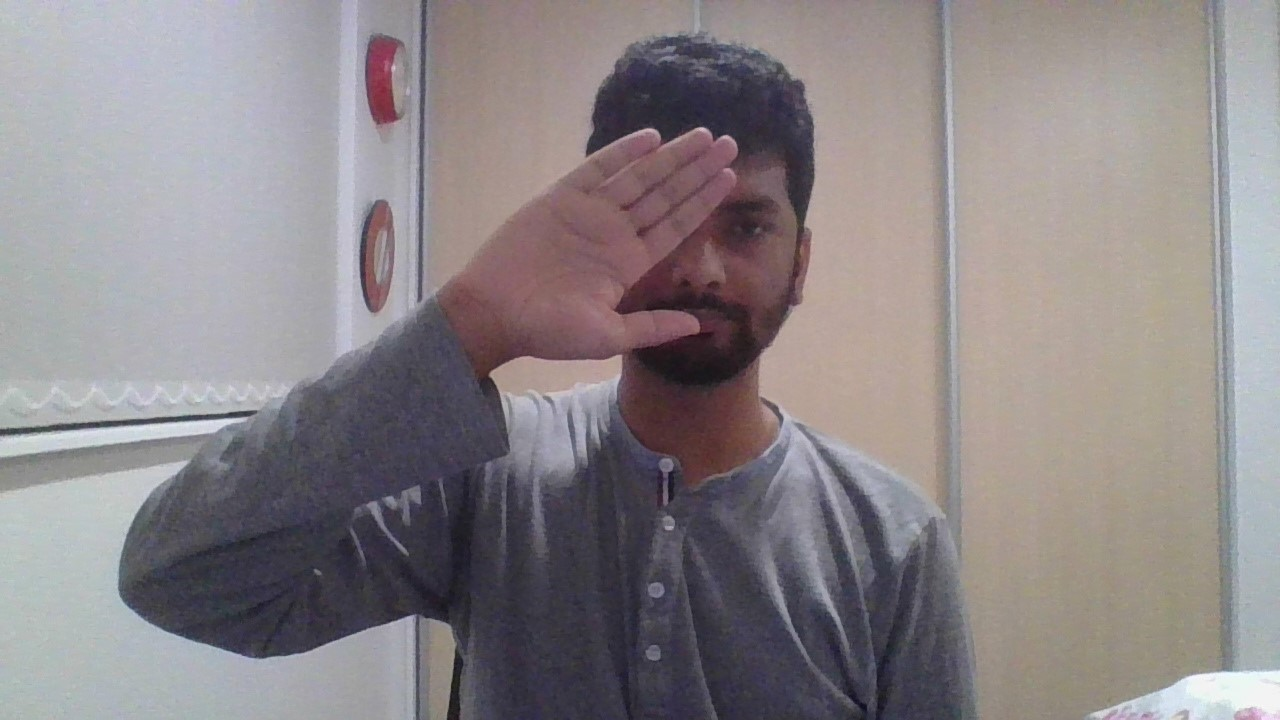hello: (463, 126, 738, 361)
